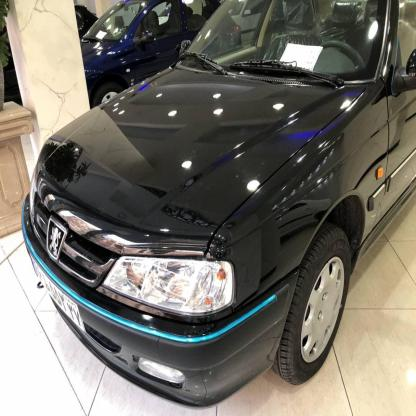Car: (0, 0, 416, 416), (60, 0, 211, 115)
